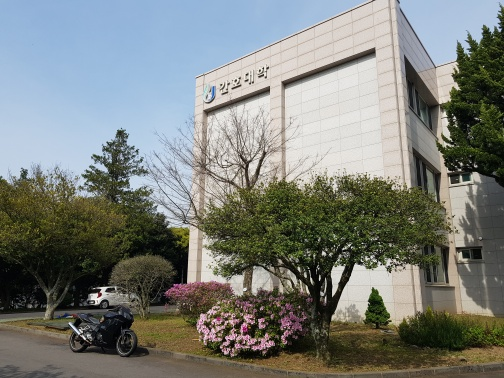College of Nursing: (187, 31, 492, 326), (201, 62, 271, 106)
